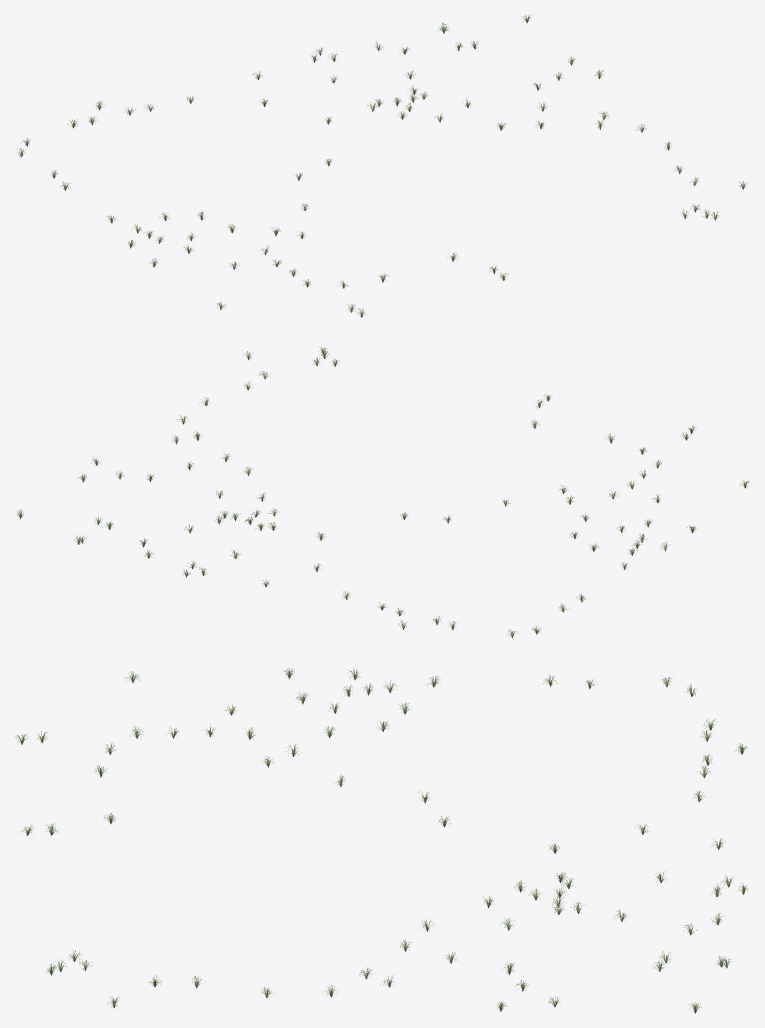
The model's file is xiyuan-vegetation-39-near.glb.
The picture shows the model from 3 angles, top to bottom: view 1: azimuth 30°, elevation 25°; view 2: azimuth 150°, elevation 25°; view 3: azimuth 270°, elevation 25°; orthographic projection. The views are drawn at different scales.
Visible parts, largest first — view 1: mondo grass.004; view 2: mondo grass.004; view 3: mondo grass.004.
Part boxes in pixels (x1,y1,x2,y2): mondo grass.004: [16, 15, 746, 317]; mondo grass.004: [16, 347, 748, 637]; mondo grass.004: [15, 667, 747, 1013].
Size of the model in its own units: 32.68 by 0.4757 by 29.66.
